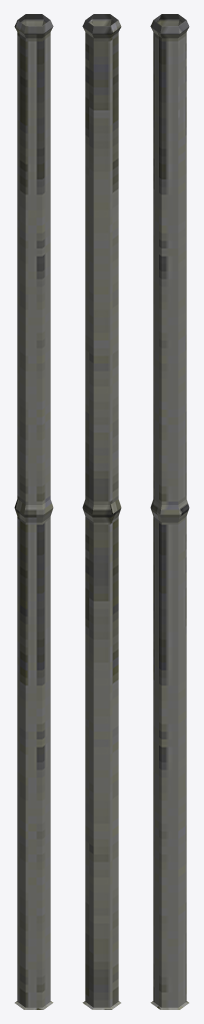
The model's file is SM_Pipe.fbx.
3 renders of one model, left to right at view 1: azimuth 30°, elevation 25°; view 2: azimuth 150°, elevation 25°; view 3: azimuth 330°, elevation 25°, orthographic.
Parts seen in each view (by area): view 1: SM_Pipe; view 2: SM_Pipe; view 3: SM_Pipe.
Part boxes in pixels (<box>): SM_Pipe: <box>14,14,53,1009</box>; SM_Pipe: <box>82,14,121,1009</box>; SM_Pipe: <box>150,14,189,1009</box>.
Bounding box in the file's own units: 4.76 × 152 × 5.41.
